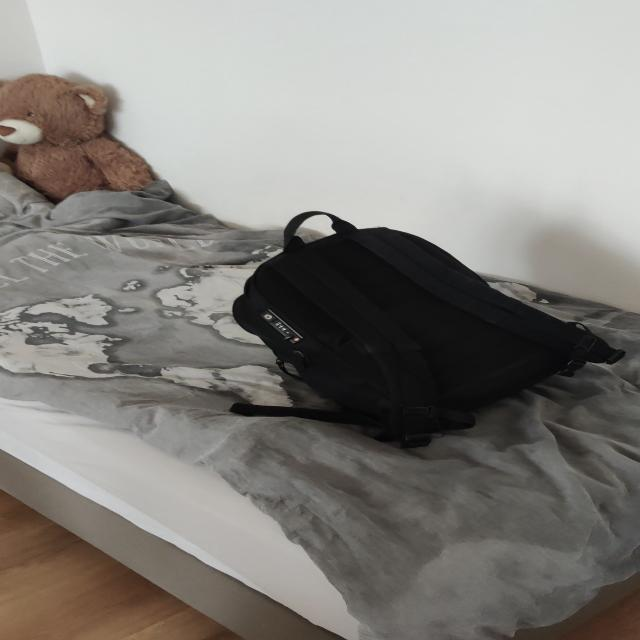backpack: (221, 211, 617, 442)
